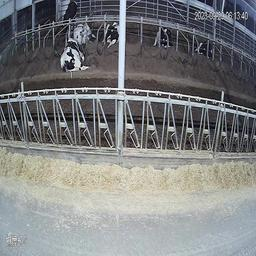cow: (56, 39, 89, 70), (60, 1, 79, 37), (102, 17, 119, 50), (72, 21, 96, 42), (154, 25, 174, 50), (195, 37, 214, 60)
